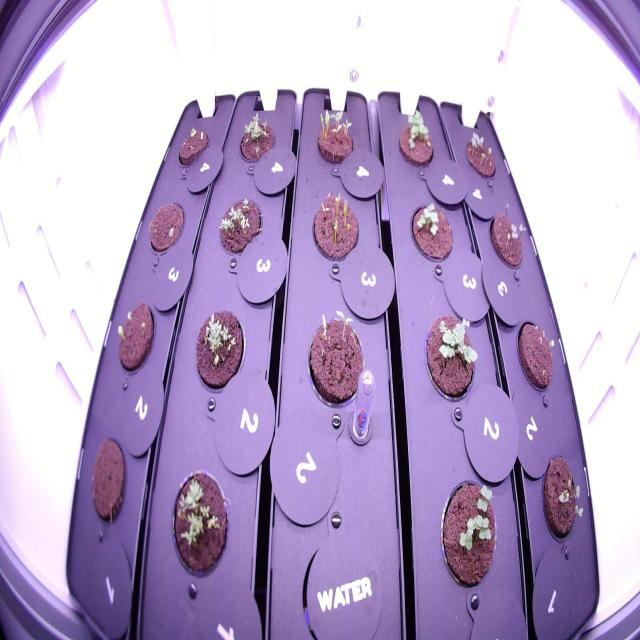germination: (438, 466, 502, 600), (168, 467, 235, 587), (302, 302, 368, 414), (422, 306, 482, 413), (538, 443, 588, 552), (192, 306, 249, 400), (512, 308, 562, 400), (306, 186, 361, 266), (211, 191, 266, 261), (113, 295, 158, 380), (406, 194, 456, 269), (483, 204, 532, 278), (307, 104, 359, 171), (390, 103, 438, 174), (233, 108, 277, 172), (462, 120, 501, 188), (174, 118, 212, 173)
pod: (84, 432, 132, 533), (143, 193, 187, 259)
